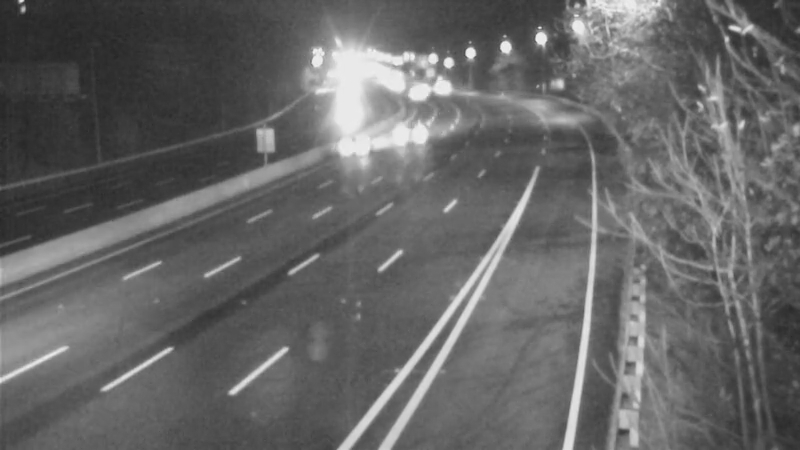vehicle: (415, 62, 465, 112), (394, 70, 444, 120), (380, 109, 430, 159), (336, 119, 386, 169), (315, 77, 365, 127)
